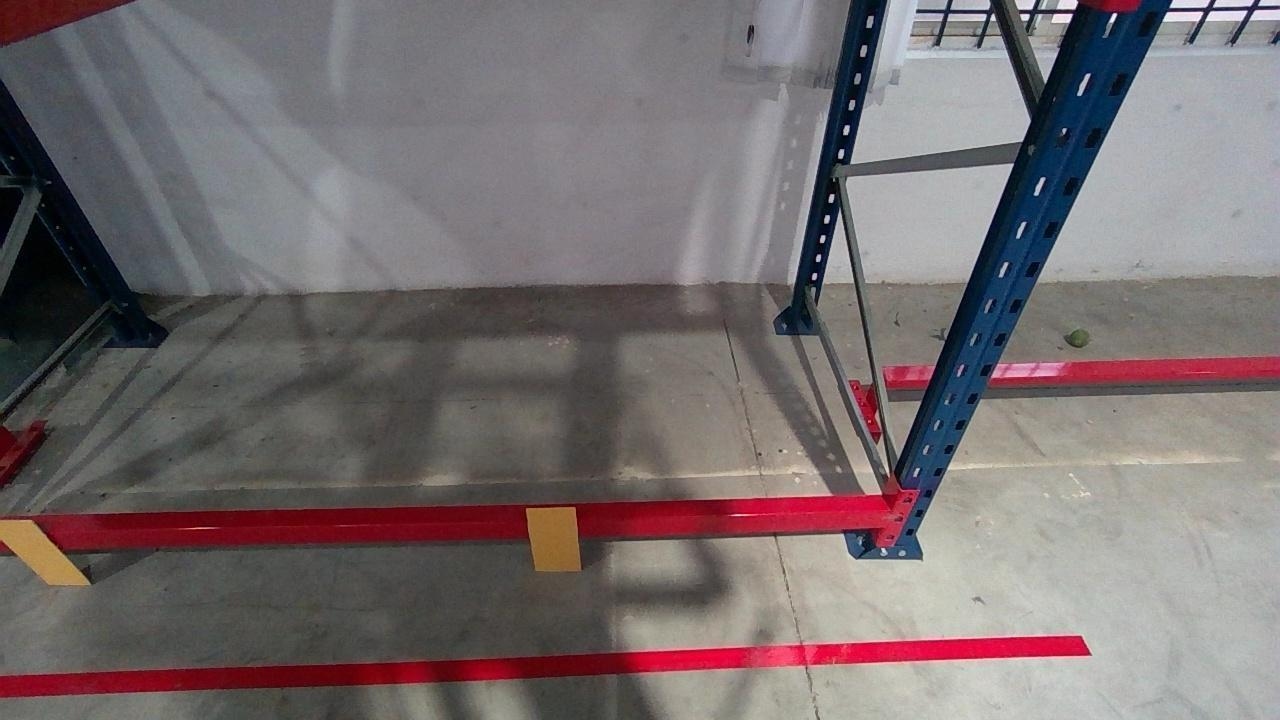red_line: (0, 632, 1093, 697)
